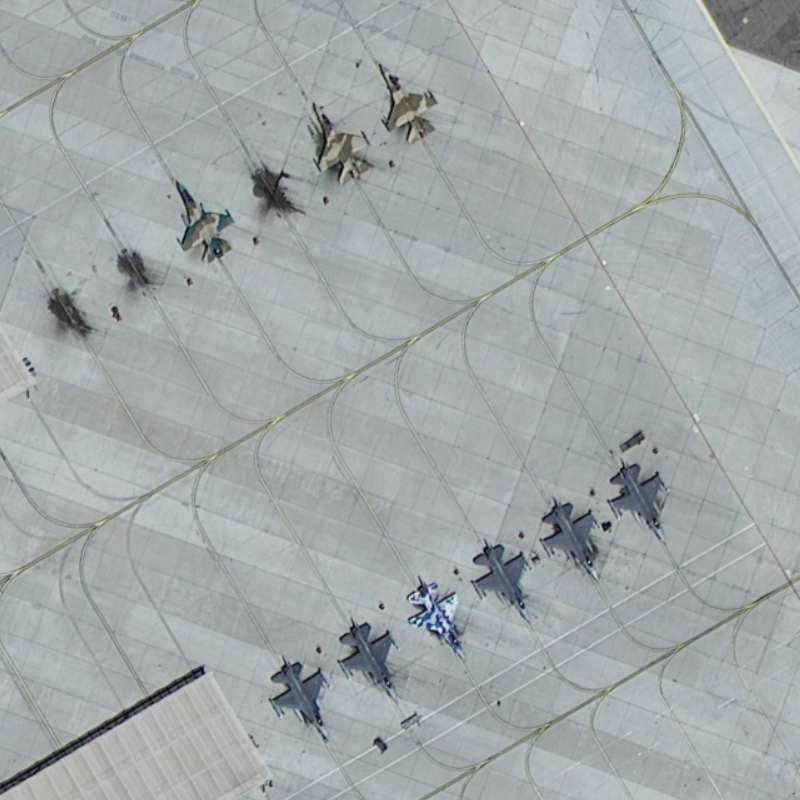A5: (165, 167, 242, 272), (370, 47, 447, 149), (401, 569, 480, 666), (537, 487, 611, 589), (260, 645, 335, 744), (301, 92, 378, 188), (334, 617, 415, 705), (604, 450, 676, 548), (469, 531, 544, 624)
